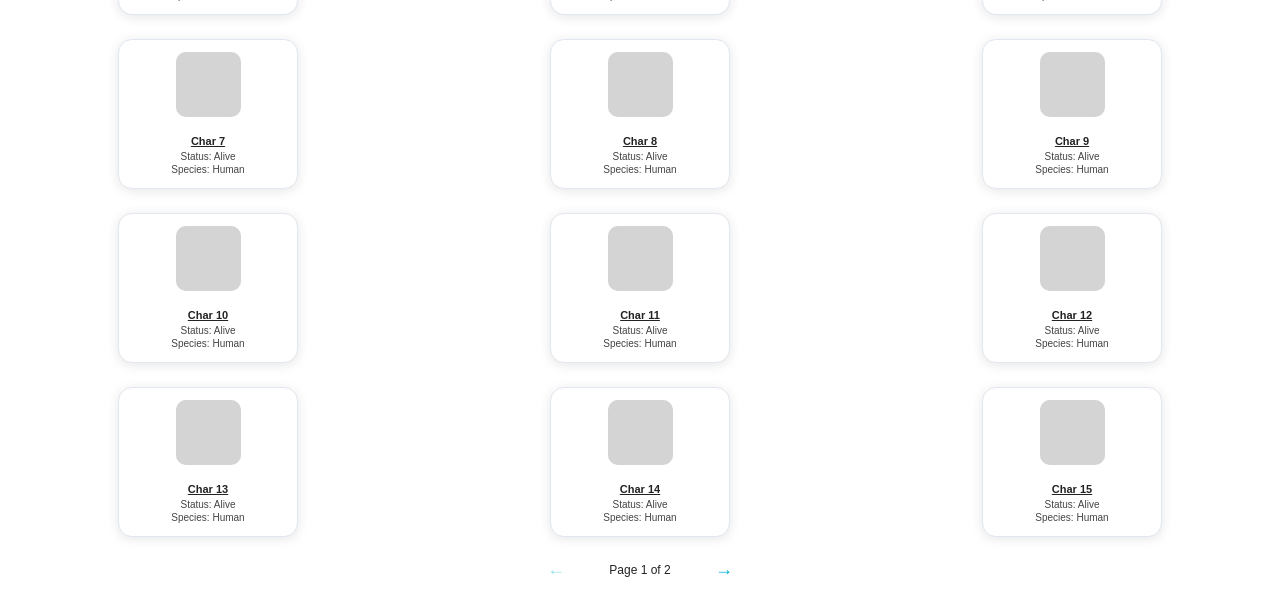
Scenario: CharacterList pagination behavior › disables next button on last page
(page scrolled)
Click the button named "next page" at (724, 570), box [709,553,739,586]
(page scrolled)
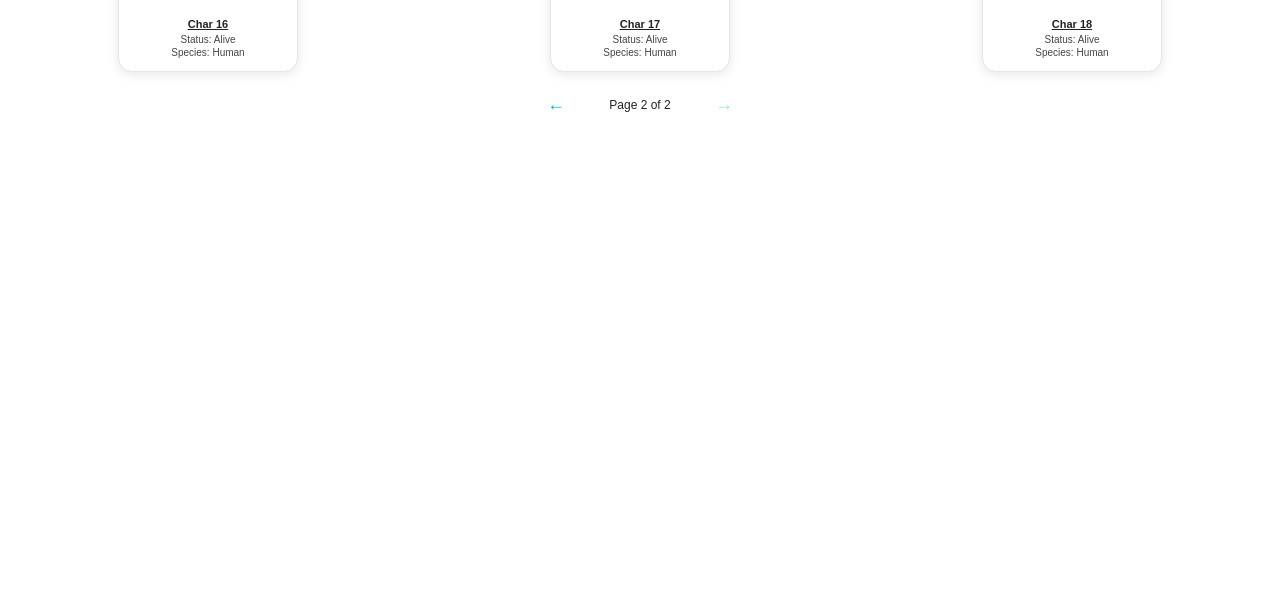
Expected: the text "Page 2 of 2" is shown, [609,98,671,112]
